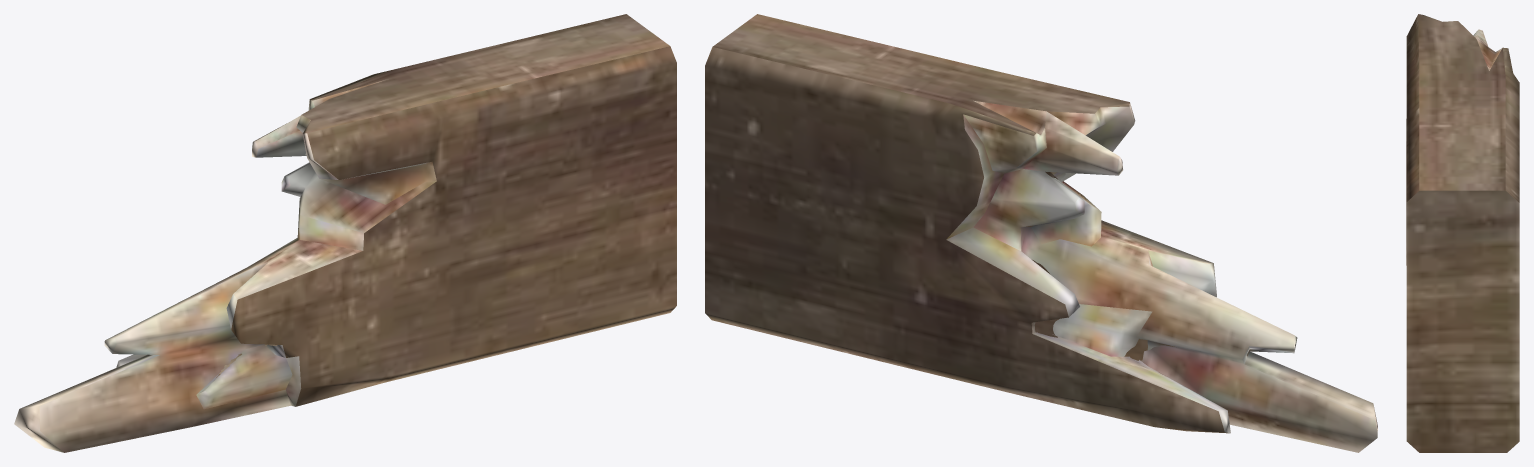
3 renders of one model, left to right at view 1: azimuth 30°, elevation 25°; view 2: azimuth 150°, elevation 25°; view 3: azimuth 270°, elevation 25°, orthographic. The views are drawn at different scales.
Parts seen in each view (by area): view 1: SM_Human_Ruins_Beam_Dmg_01_LOD0; view 2: SM_Human_Ruins_Beam_Dmg_01_LOD0; view 3: SM_Human_Ruins_Beam_Dmg_01_LOD0.
Boxes of the visible parts, x1,y1,x2,y2 form: SM_Human_Ruins_Beam_Dmg_01_LOD0: (14, 14, 676, 452); SM_Human_Ruins_Beam_Dmg_01_LOD0: (705, 14, 1377, 452); SM_Human_Ruins_Beam_Dmg_01_LOD0: (1406, 14, 1519, 452).
Bounding box in the file's own units: 0.695 × 0.2848 × 0.1102.
Materials: 1 (1 with a texture image).
